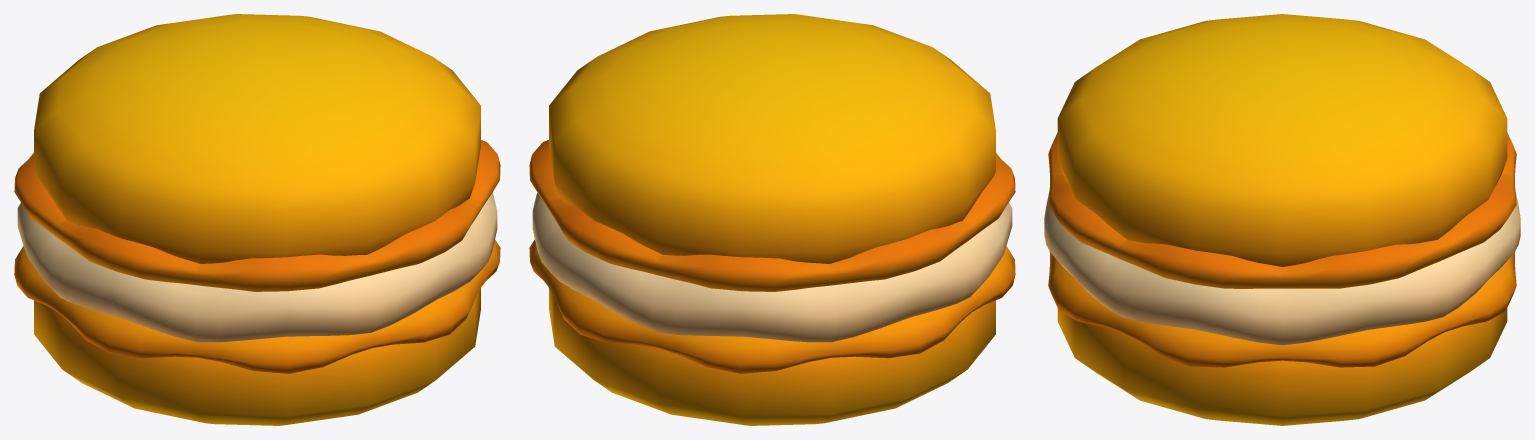
The model's file is Macaron_V1_06.fbx.
3 renders of one model, left to right at view 1: azimuth 30°, elevation 25°; view 2: azimuth 150°, elevation 25°; view 3: azimuth 270°, elevation 25°, orthographic.
Parts seen in each view (by area): view 1: Macaron_V1_06; view 2: Macaron_V1_06; view 3: Macaron_V1_06.
Boxes of the visible parts, x1=… form: Macaron_V1_06: x1=14, y1=14, x2=500, y2=425; Macaron_V1_06: x1=529, y1=14, x2=1015, y2=425; Macaron_V1_06: x1=1044, y1=14, x2=1520, y2=425.
Size of the model in its own units: 27.03 by 19.94 by 27.03.
